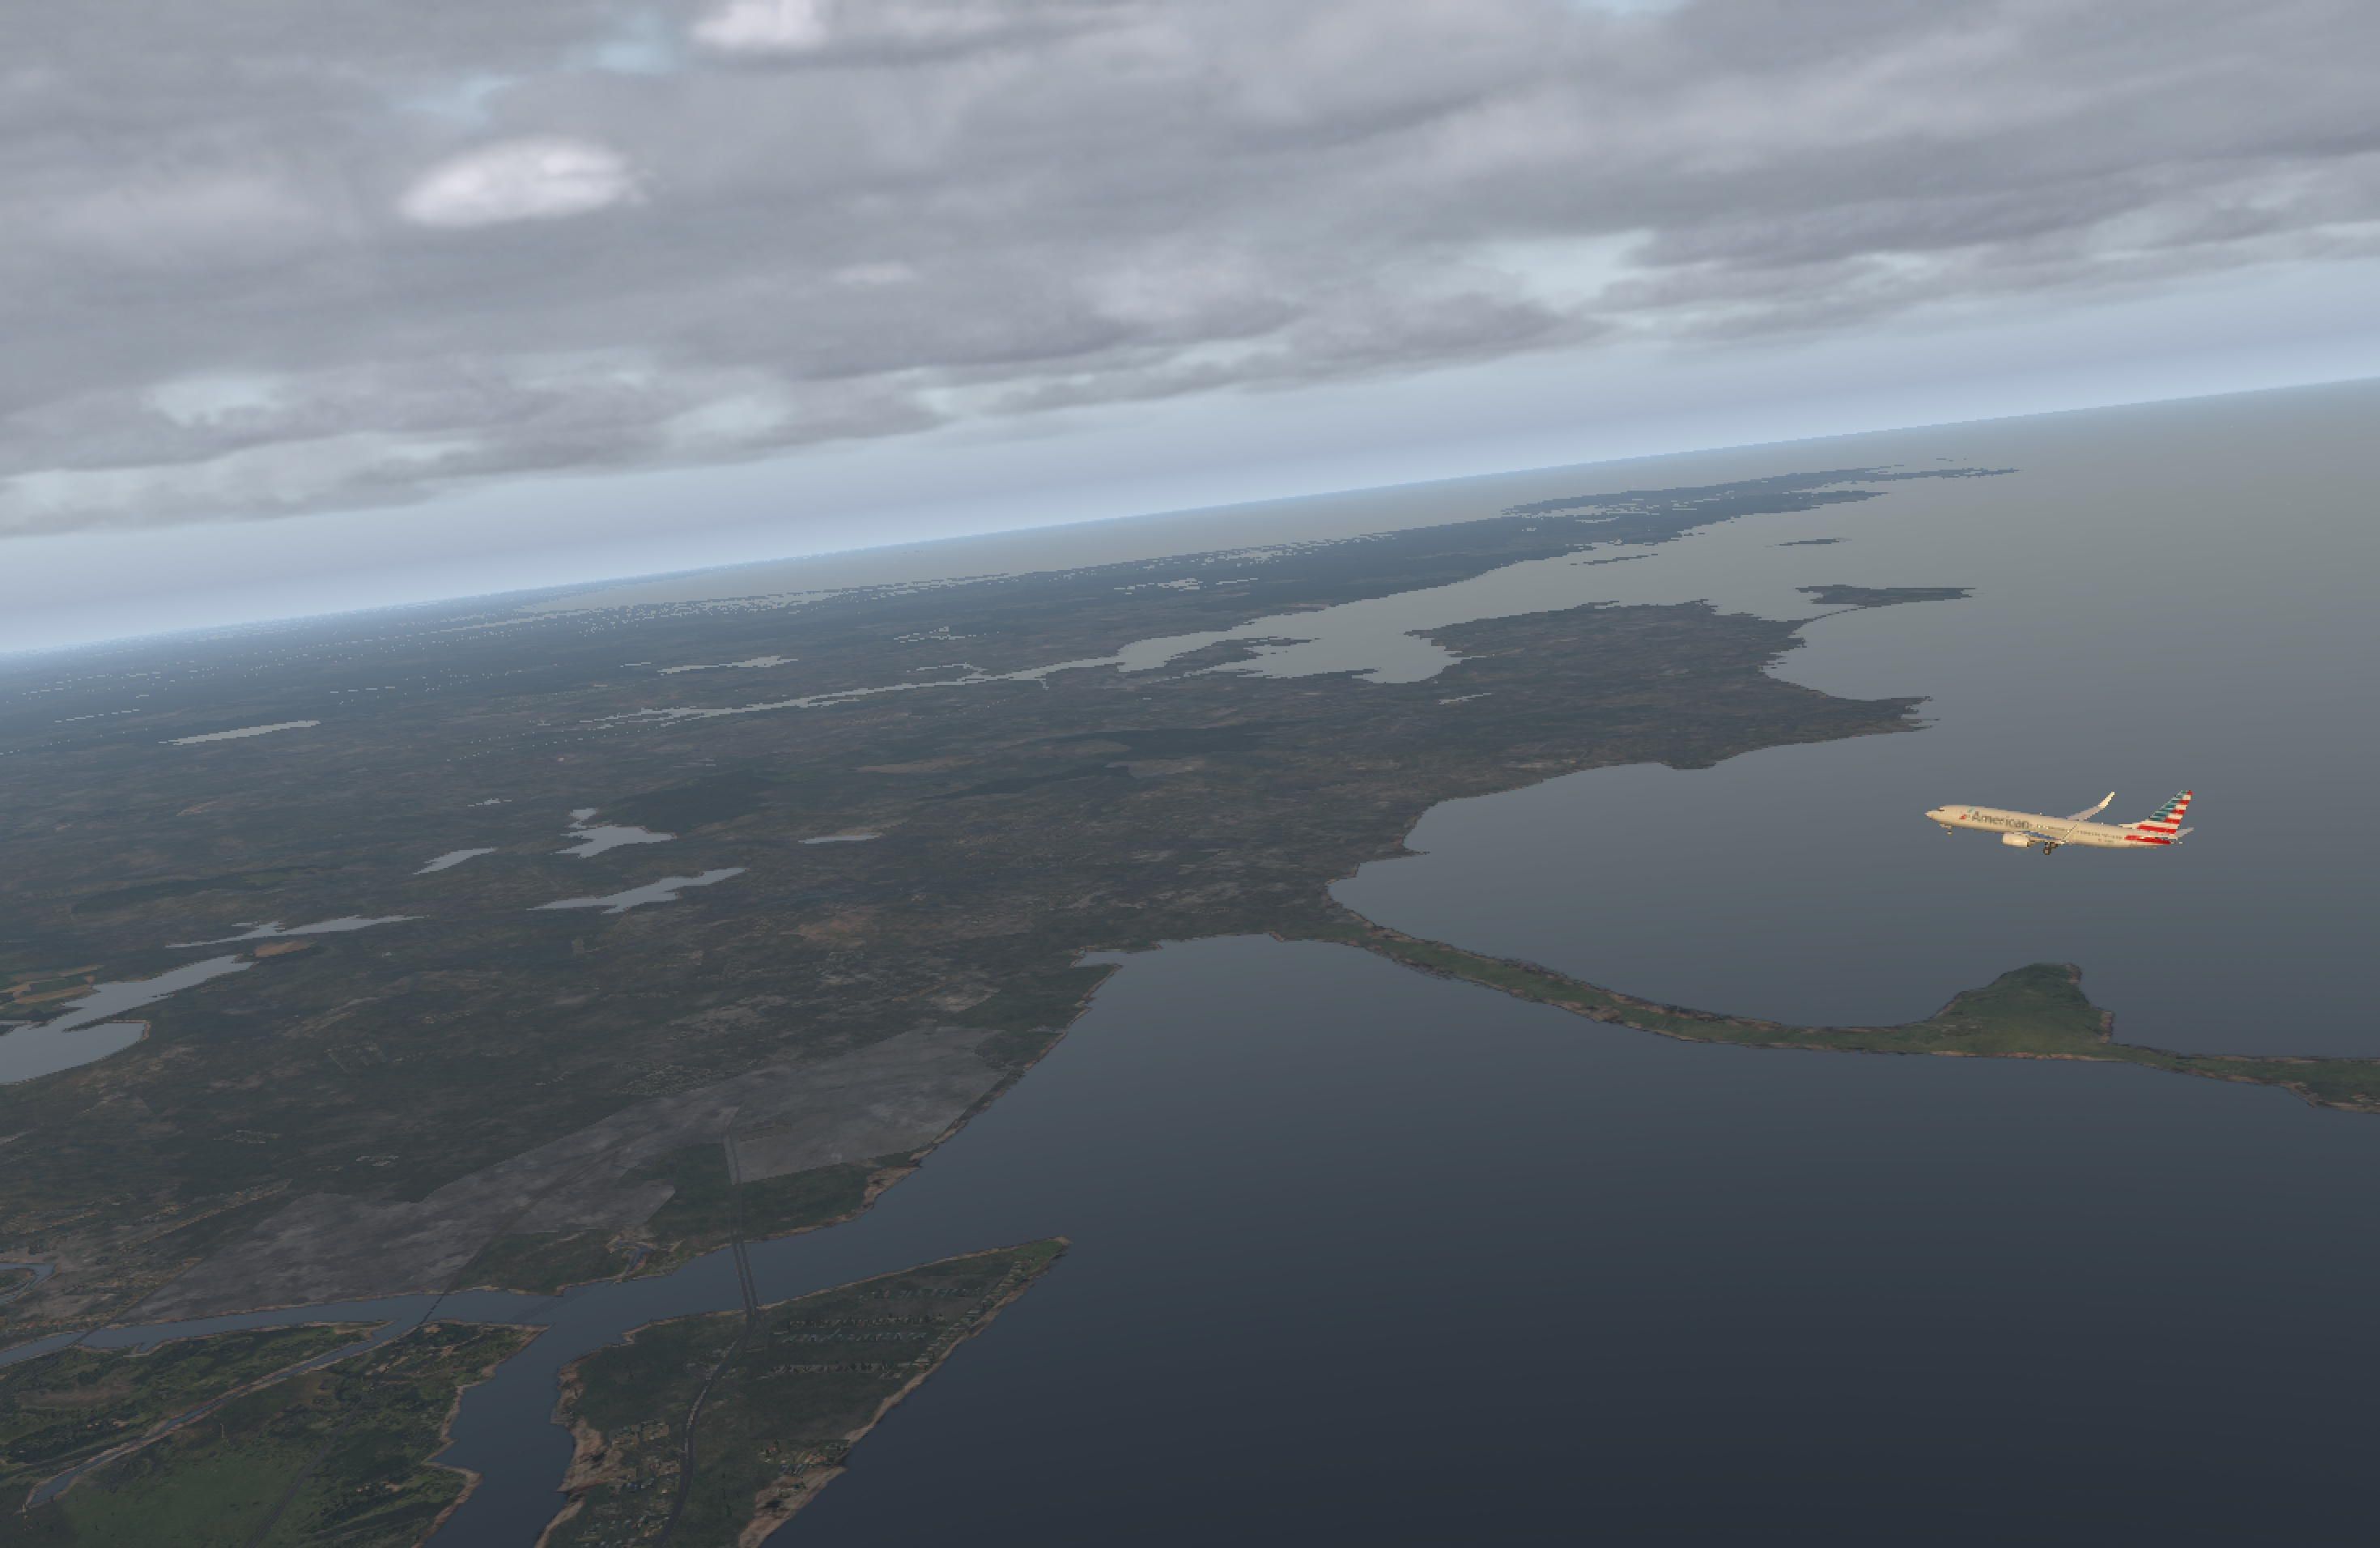aircraft: (1929, 790, 2156, 875)
